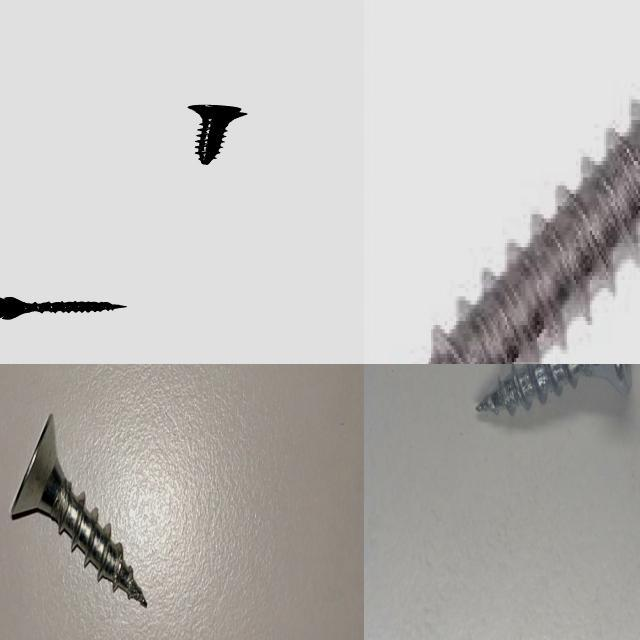Screw: (424, 94, 640, 364), (11, 413, 147, 606), (476, 364, 632, 414), (186, 104, 244, 164), (0, 297, 124, 320)
